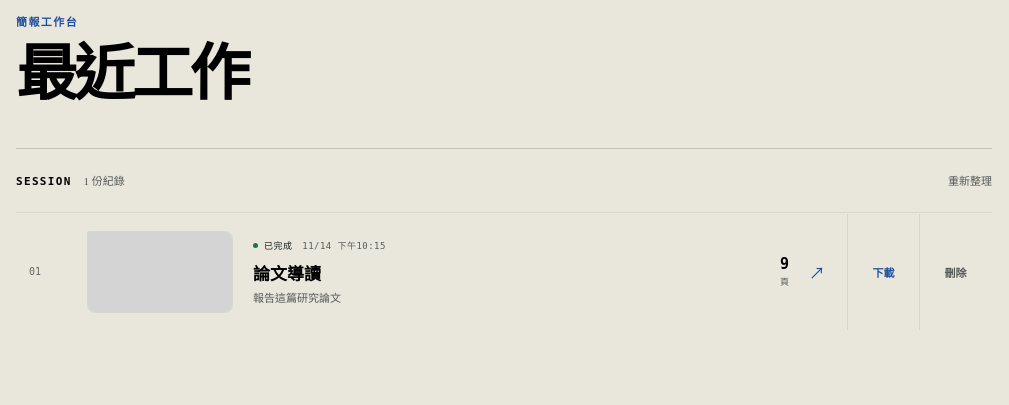
Test case: 按保留就收起確認,什麼都不會被刪掉
Click the button with aria-label "刪除 論文導讀" at [955, 272], box [919,214,991,330]
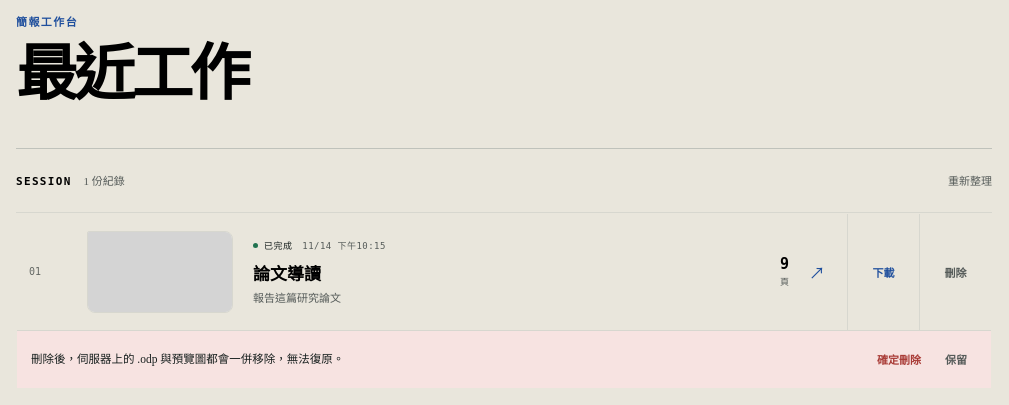
Click the button "保留" at [956, 359], box [935,342,977,376]
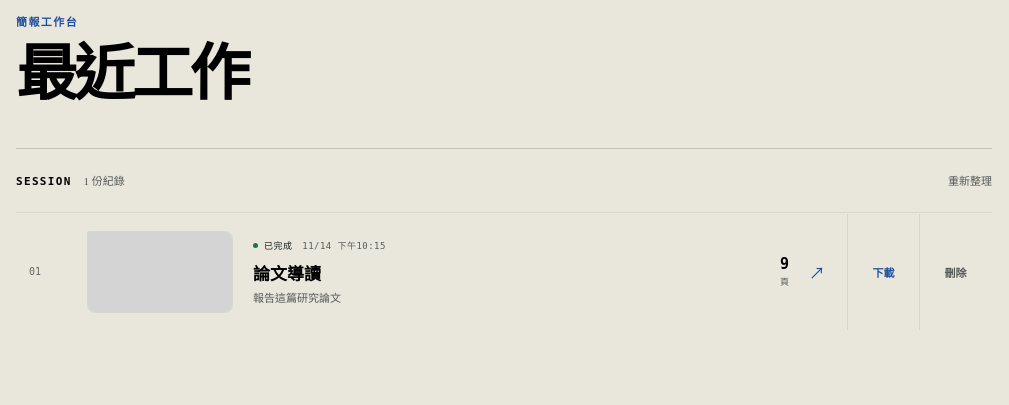
Result: the button "確定刪除" is gone
